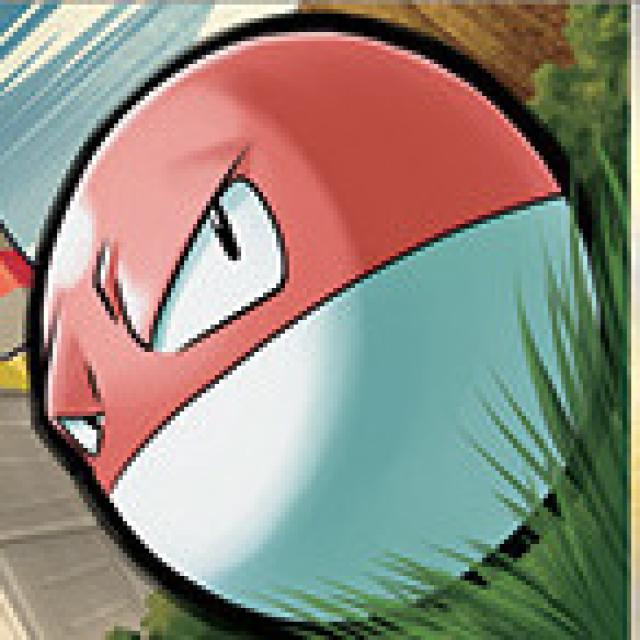Voltorb: (31, 19, 614, 617)
